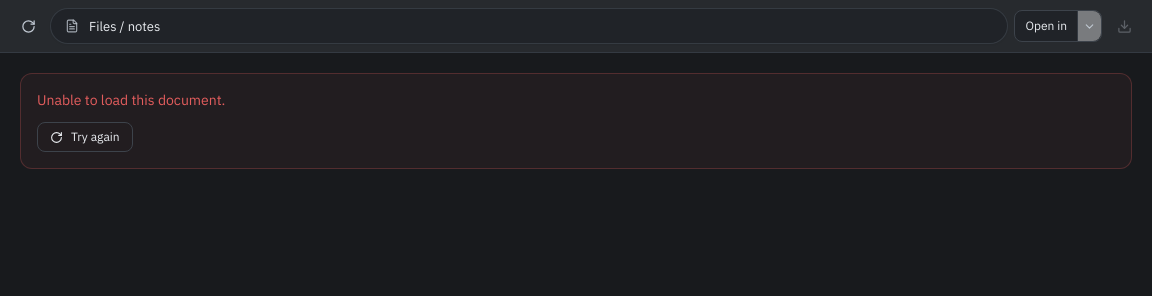
Test: retries through preparation after permission failure
Check: the message "Unable to load this document." is shown, box [37,91,225,109]
Click the button "Try again".
click(85, 137)  # box [37,122,133,152]
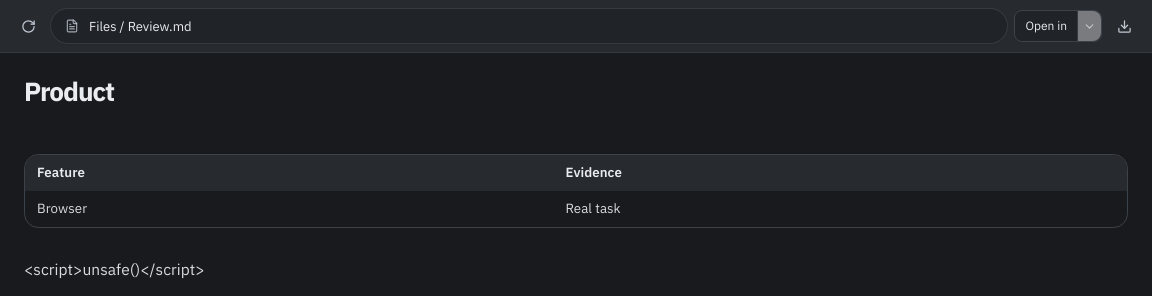
Check: the heading "Product" is shown, box [24,74,114,108]
